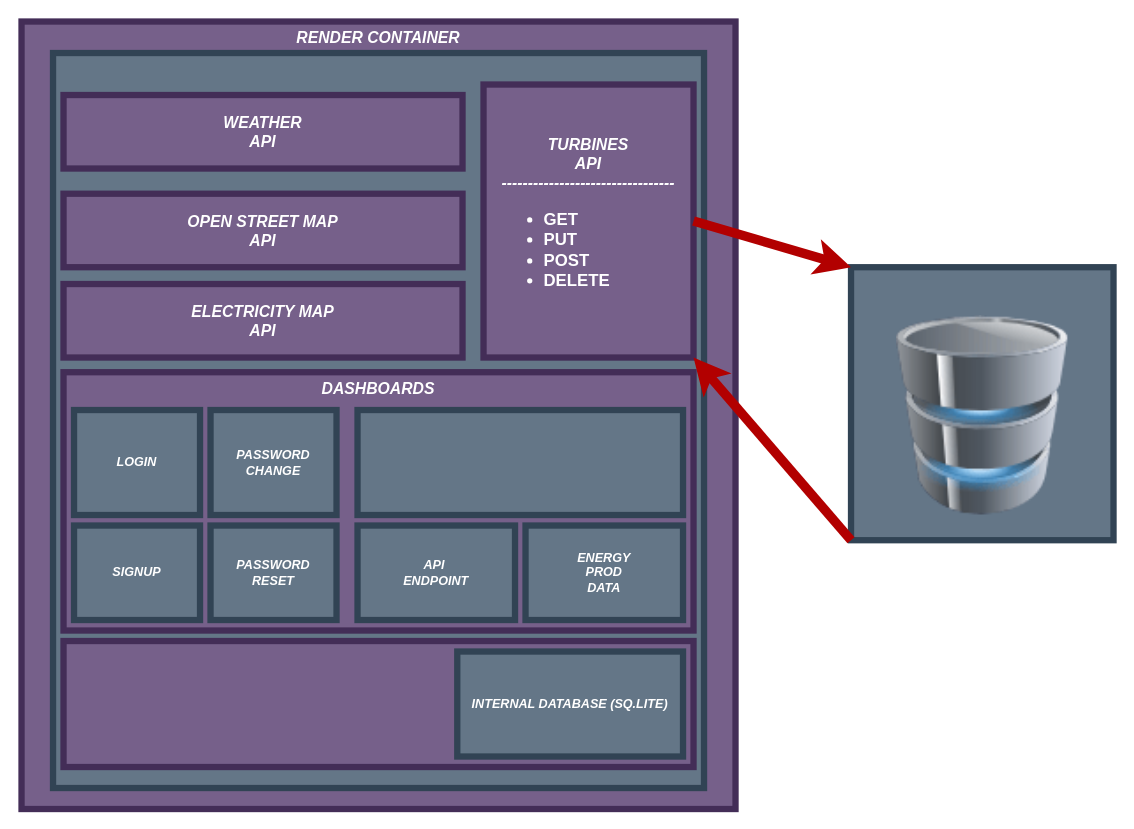
The diagram is 1134 pixels wide and 829 high, and some of its shapes have lost their labels. The box of each missing label's shape, as (x1, y1, x2, y2) in pixels:
ACCOUNTS MANAGER: (60, 637, 696, 770)
DJANGO APPLICATION: (49, 49, 707, 791)
MAIN PANEL: (354, 406, 686, 518)
MONGODB DATABASE: (847, 264, 1116, 543)
